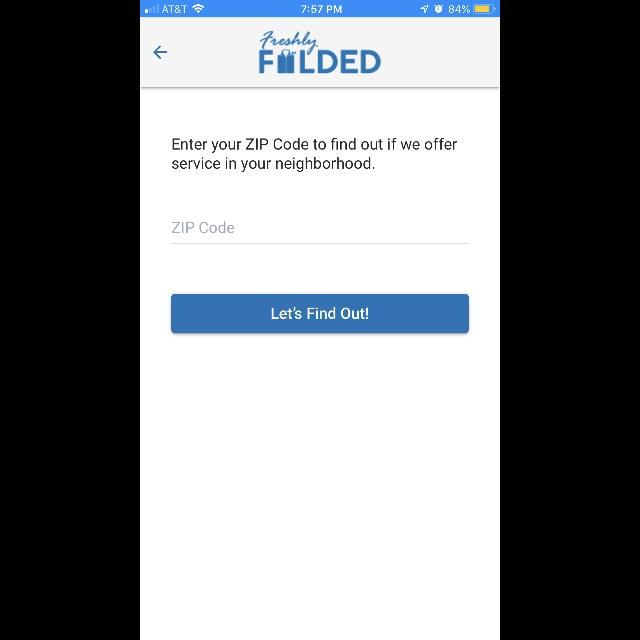icon: (153, 45, 167, 59)
image: (259, 32, 381, 74)
input: (172, 222, 468, 244)
text: (172, 138, 458, 172), (172, 221, 234, 233)
textbutton: (172, 294, 468, 332)
uppertaskbar: (140, 1, 500, 18)
